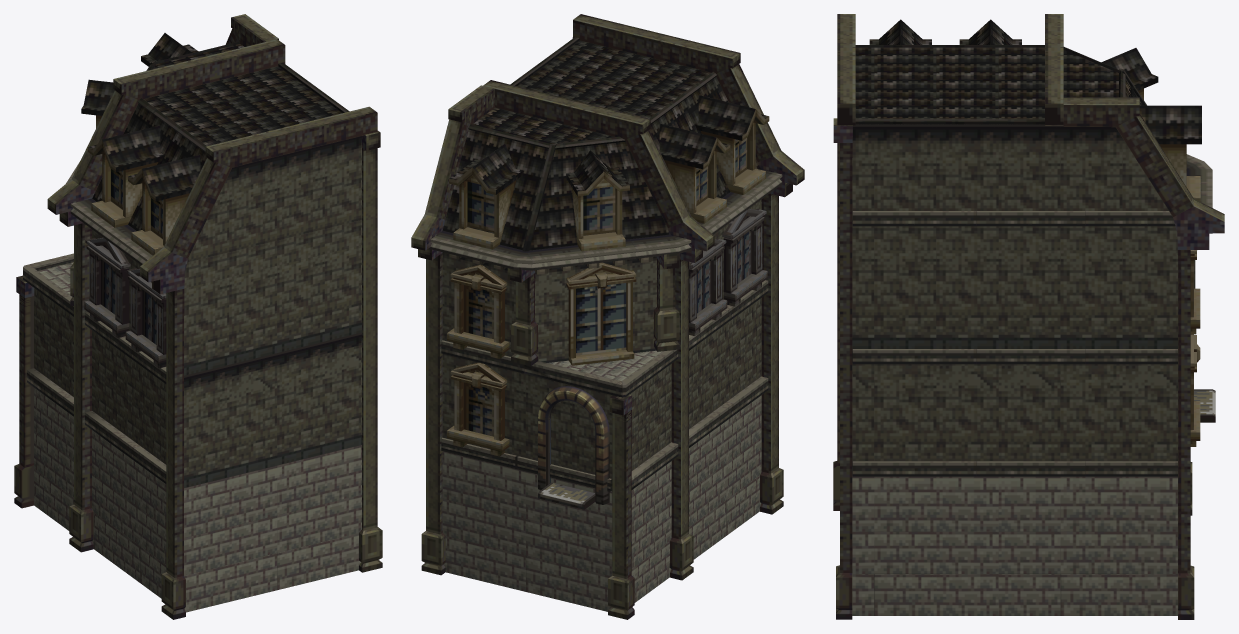
The model's file is EnvBdgMD_City_B_Outdoor_L_D_Arrange_B.FBX.
3 views of the same model, side by side, from view 1: azimuth 30°, elevation 25°; view 2: azimuth 150°, elevation 25°; view 3: azimuth 270°, elevation 25° (orthographic). The views are drawn at different scales.
Visible parts, largest first — view 1: EnvBdgMD_City_B_Outdoor_L_D_Arrange_B; view 2: EnvBdgMD_City_B_Outdoor_L_D_Arrange_B; view 3: EnvBdgMD_City_B_Outdoor_L_D_Arrange_B.
Part boxes in pixels (x1=…): EnvBdgMD_City_B_Outdoor_L_D_Arrange_B: x1=14, y1=14, x2=382, y2=619; EnvBdgMD_City_B_Outdoor_L_D_Arrange_B: x1=411, y1=14, x2=804, y2=619; EnvBdgMD_City_B_Outdoor_L_D_Arrange_B: x1=833, y1=14, x2=1224, y2=619.
Bounding box in the file's own units: 491 × 913 × 631.
1 material, 1 textured.
